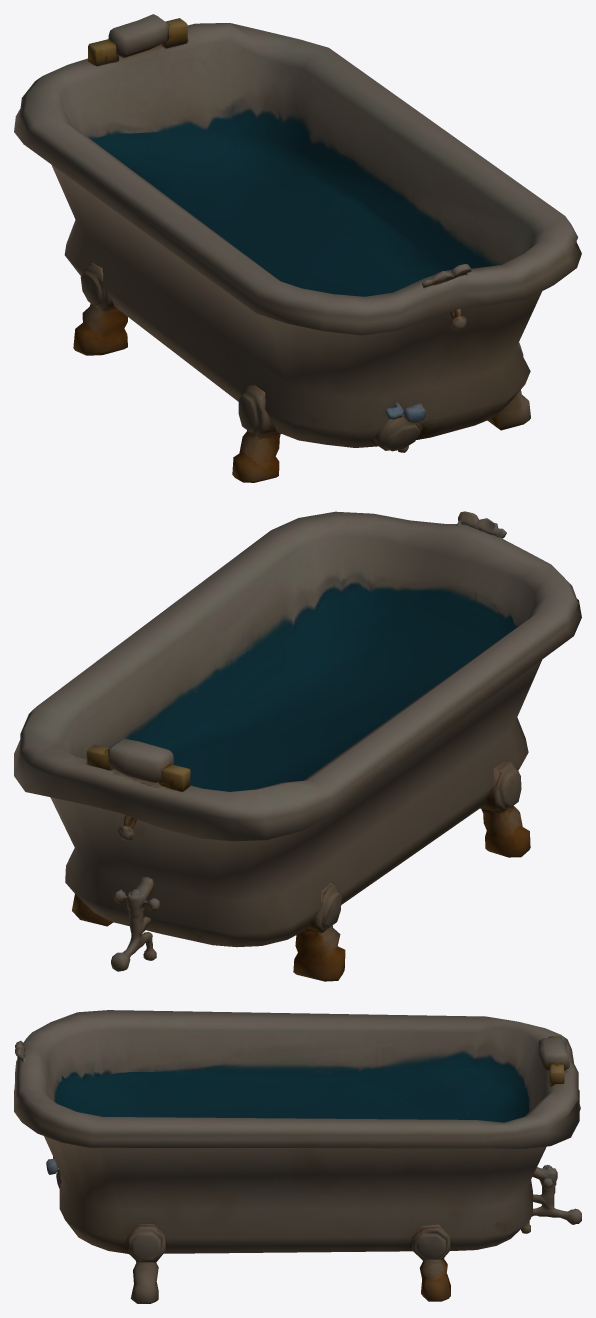
Rendered from water.glb.
3 views of the same model, one above another, from view 1: azimuth 30°, elevation 25°; view 2: azimuth 150°, elevation 25°; view 3: azimuth 270°, elevation 25° (orthographic). The views are drawn at different scales.
Parts seen in each view (by area): view 1: tripo_node_e2eec00a-9501-44bb-9a26-f45a402aa9d2; view 2: tripo_node_e2eec00a-9501-44bb-9a26-f45a402aa9d2; view 3: tripo_node_e2eec00a-9501-44bb-9a26-f45a402aa9d2.
Boxes of the visible parts, x1,y1,x2,y2 form: tripo_node_e2eec00a-9501-44bb-9a26-f45a402aa9d2: (14, 14, 581, 482); tripo_node_e2eec00a-9501-44bb-9a26-f45a402aa9d2: (14, 511, 581, 981); tripo_node_e2eec00a-9501-44bb-9a26-f45a402aa9d2: (14, 1010, 581, 1303).
Bounding box in the file's own units: 0.5215 × 0.3965 × 0.998.
1 material, 1 textured.
